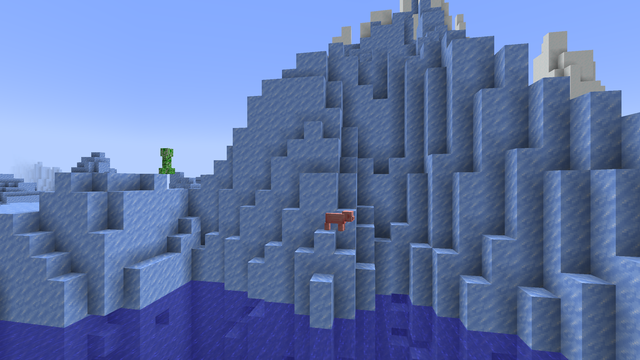cochons: (326, 211, 344, 230)
creepers: (159, 146, 174, 173)
